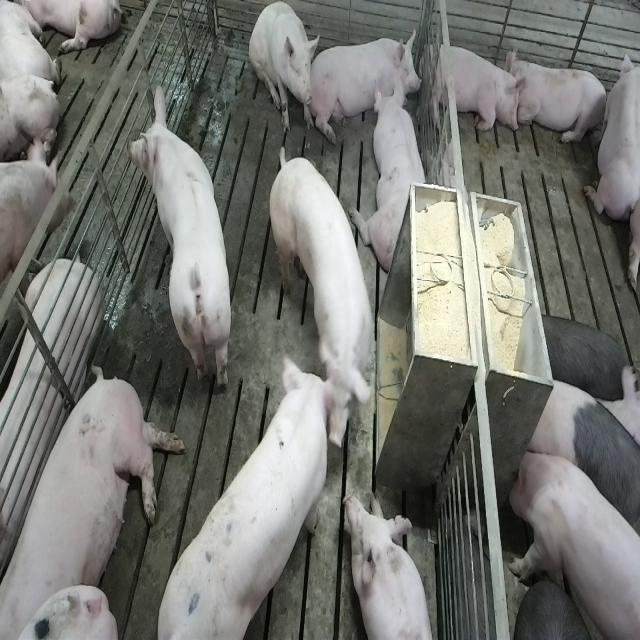Lateral_lying: (4, 362, 188, 636), (0, 258, 103, 578)
Sitting: (250, 3, 318, 137)
Standing: (155, 358, 344, 640), (125, 82, 232, 399), (267, 143, 377, 421), (505, 443, 638, 640), (522, 365, 638, 552), (0, 140, 62, 364), (536, 311, 631, 402)
Sternal_lying: (345, 489, 437, 640), (362, 82, 430, 274), (313, 29, 422, 134), (425, 39, 525, 139), (584, 41, 638, 224), (510, 51, 610, 149)
